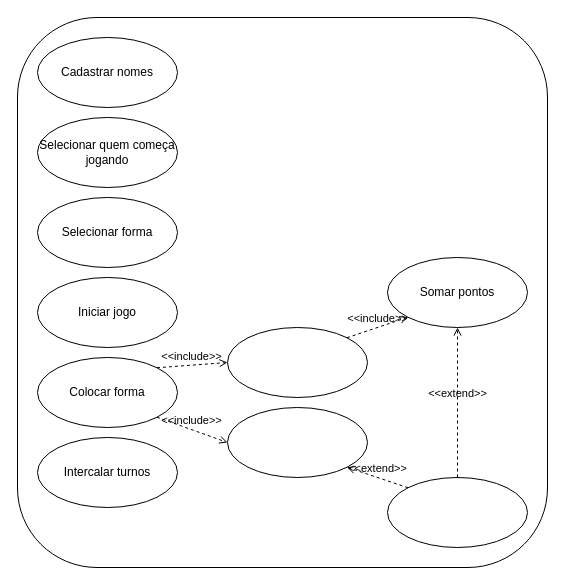
This 565x585 diagram has some shape labels left out. Each missing label, with the centre of its shape:
Jogar de novo: (x=457, y=512)
Verificar empate: (x=297, y=442)
Verificar vitória: (x=297, y=362)
